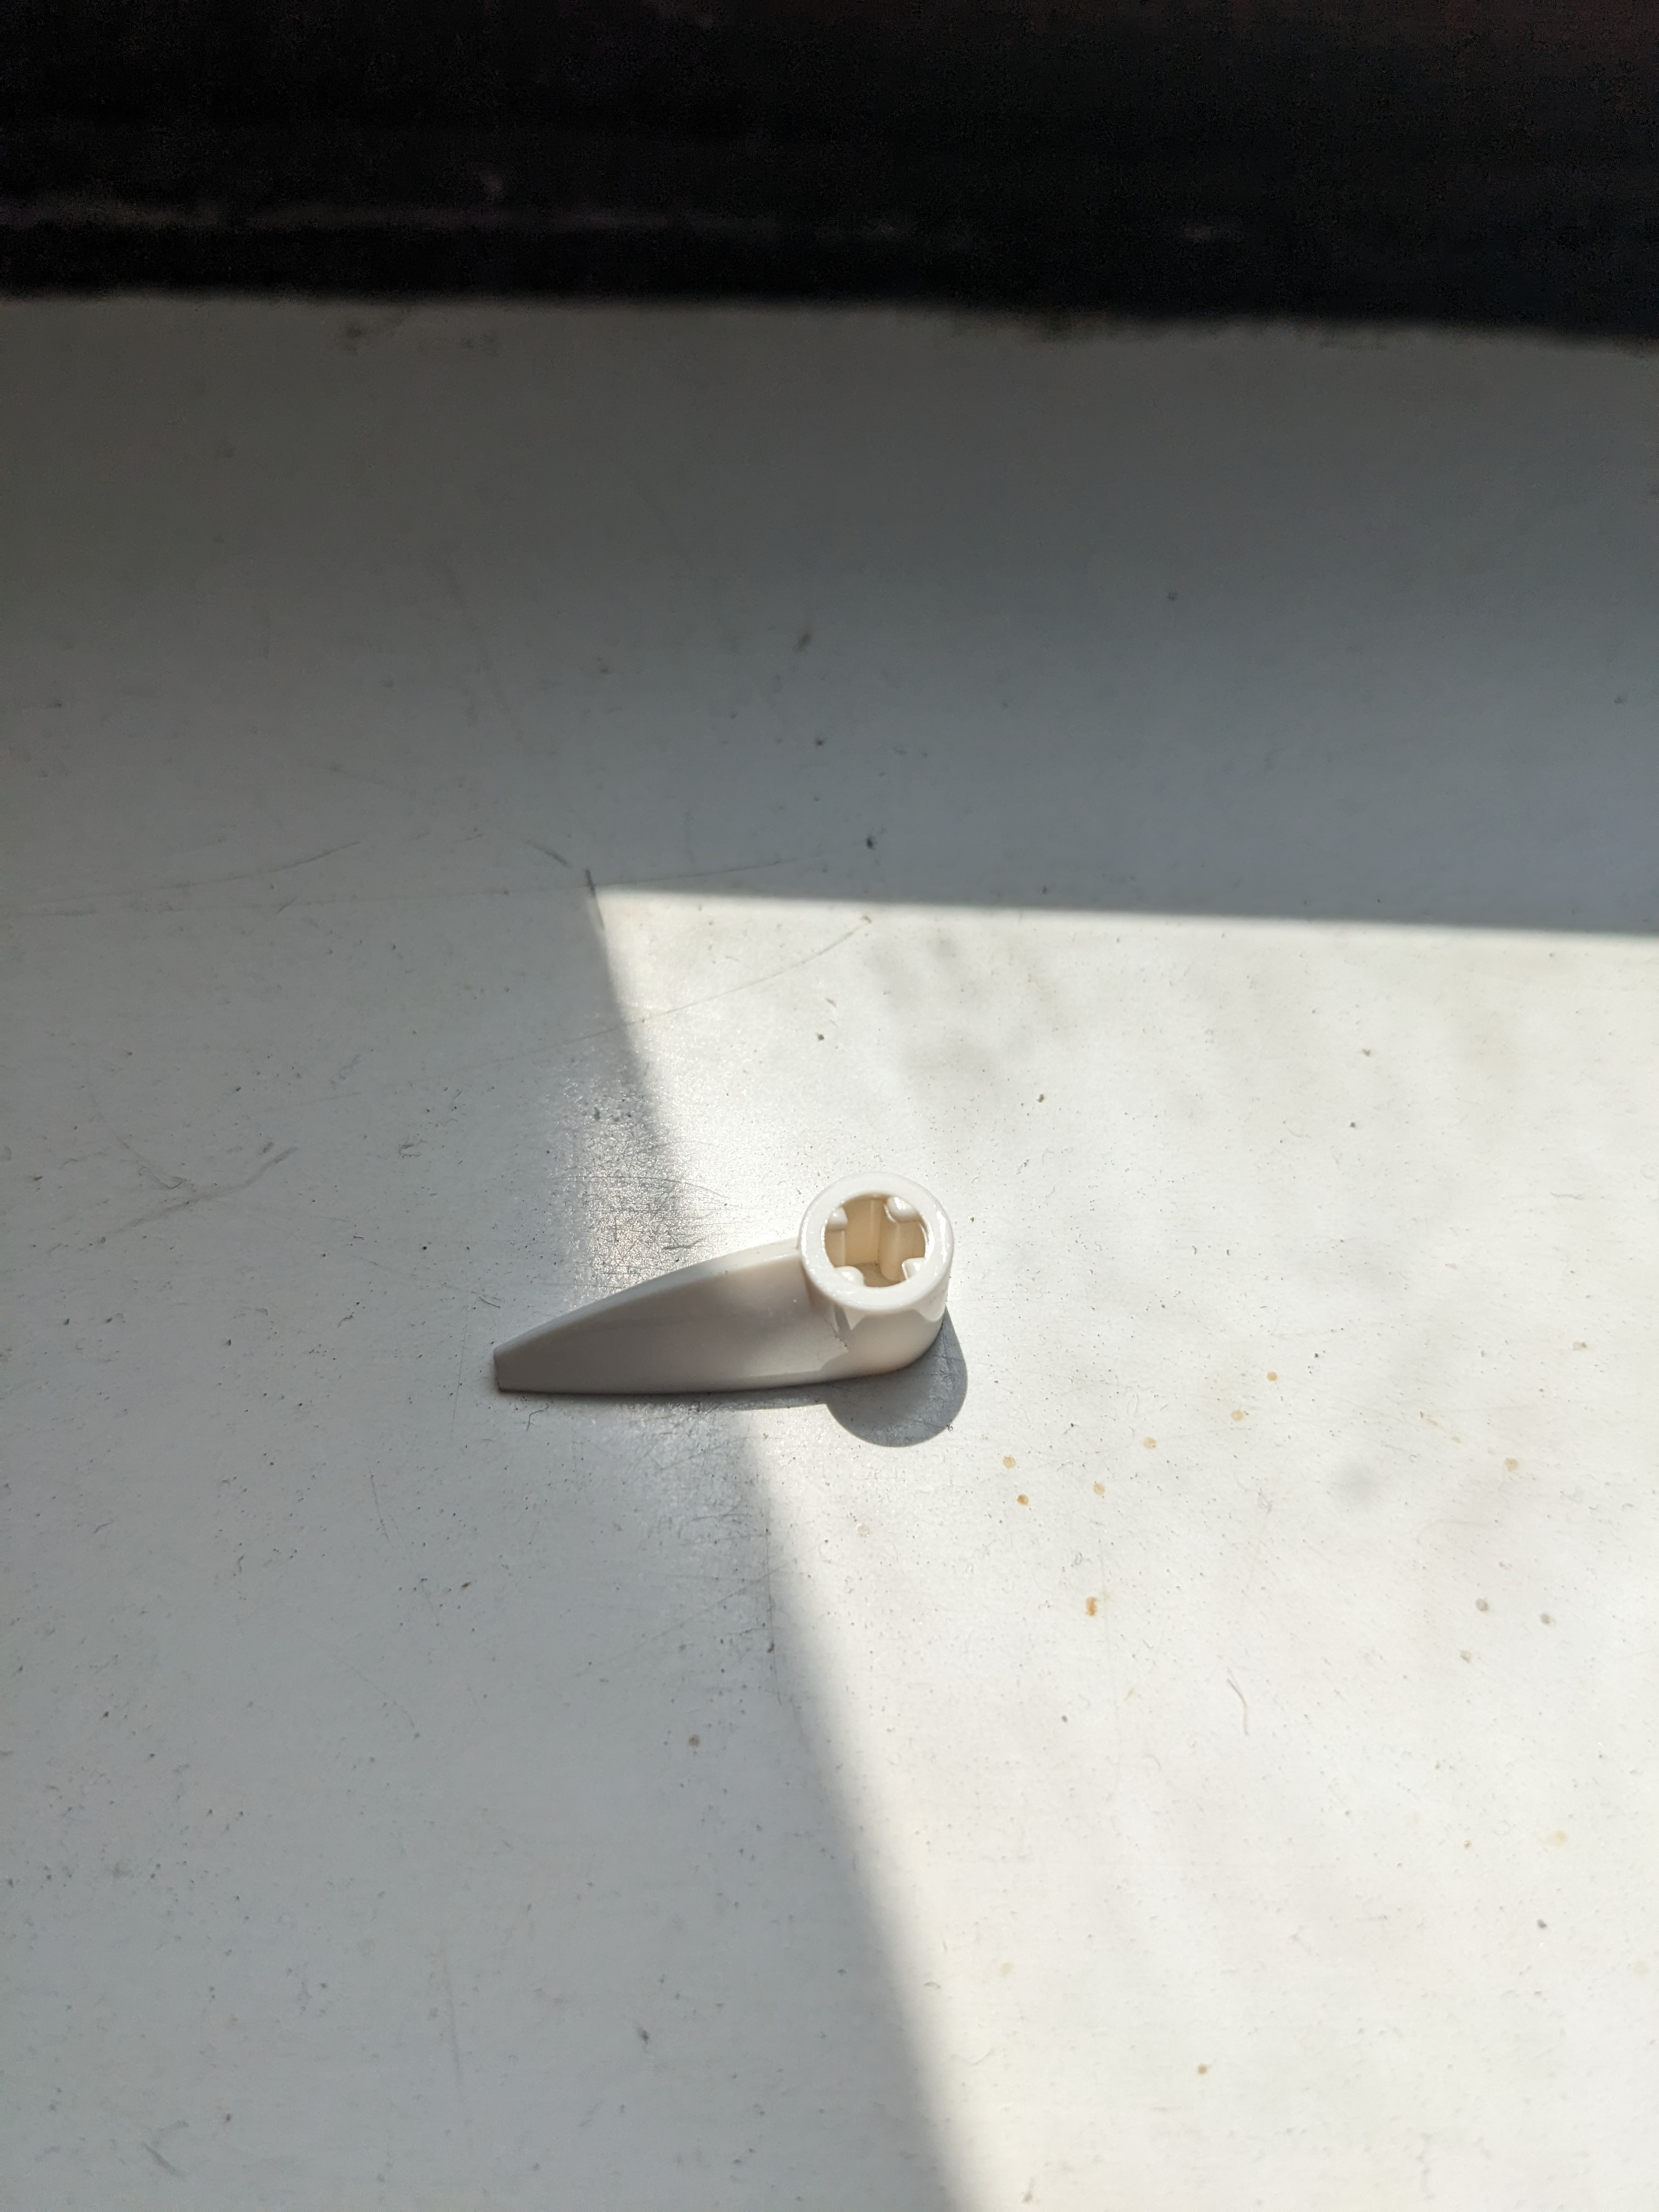Kappe: (477, 1162, 976, 1437)
